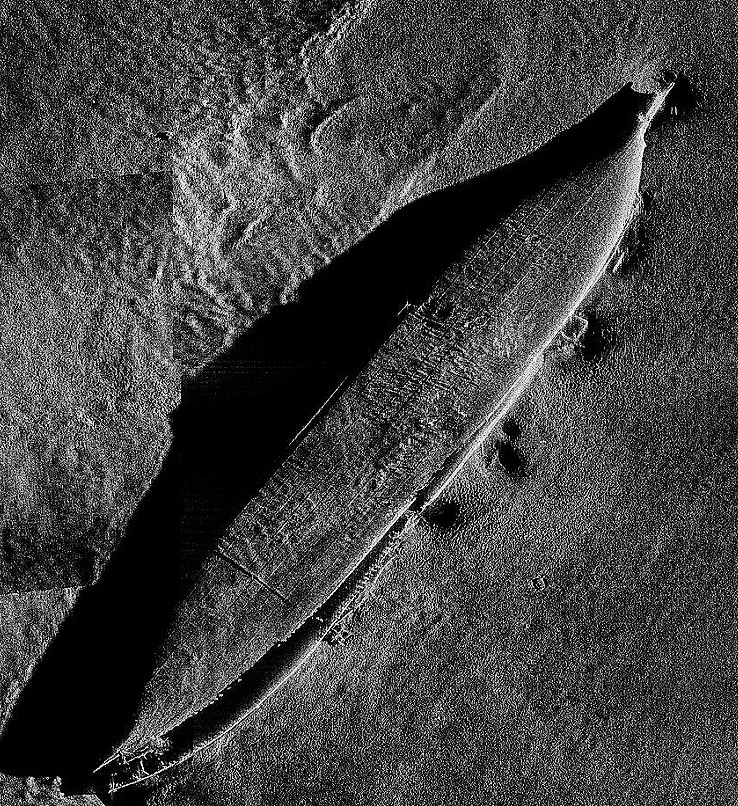ship: (84, 76, 678, 798)
